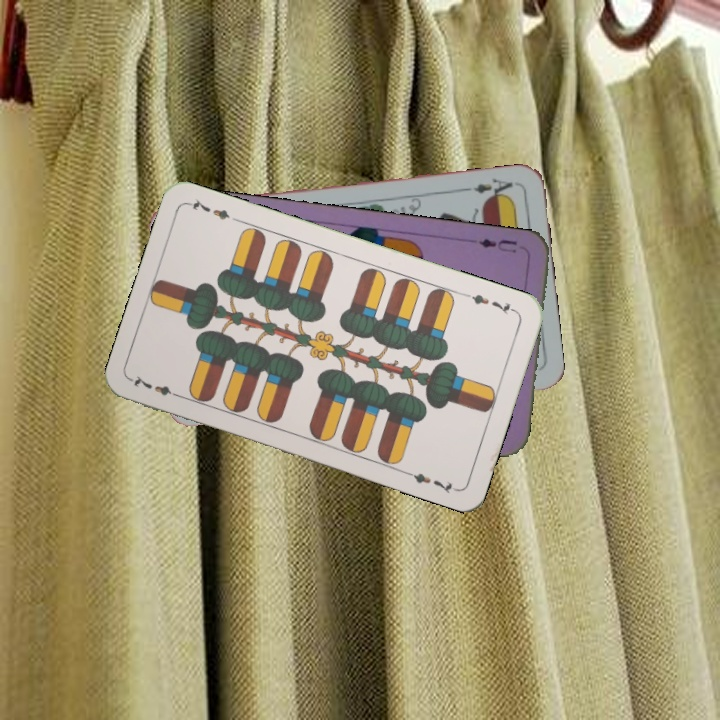E7: (128, 371, 185, 401), (462, 289, 519, 318)
EA: (460, 173, 515, 202)
EU: (475, 234, 519, 255)
